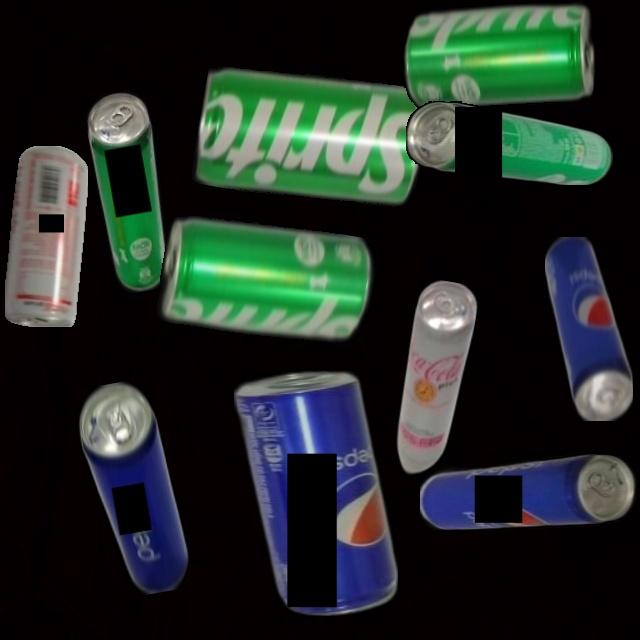debris: (189, 53, 433, 221), (233, 370, 398, 616), (153, 205, 381, 356), (72, 376, 194, 601), (401, 1, 595, 108), (82, 87, 180, 296), (387, 277, 481, 482), (406, 100, 613, 185), (419, 454, 637, 530), (544, 236, 633, 421), (4, 146, 88, 327)
